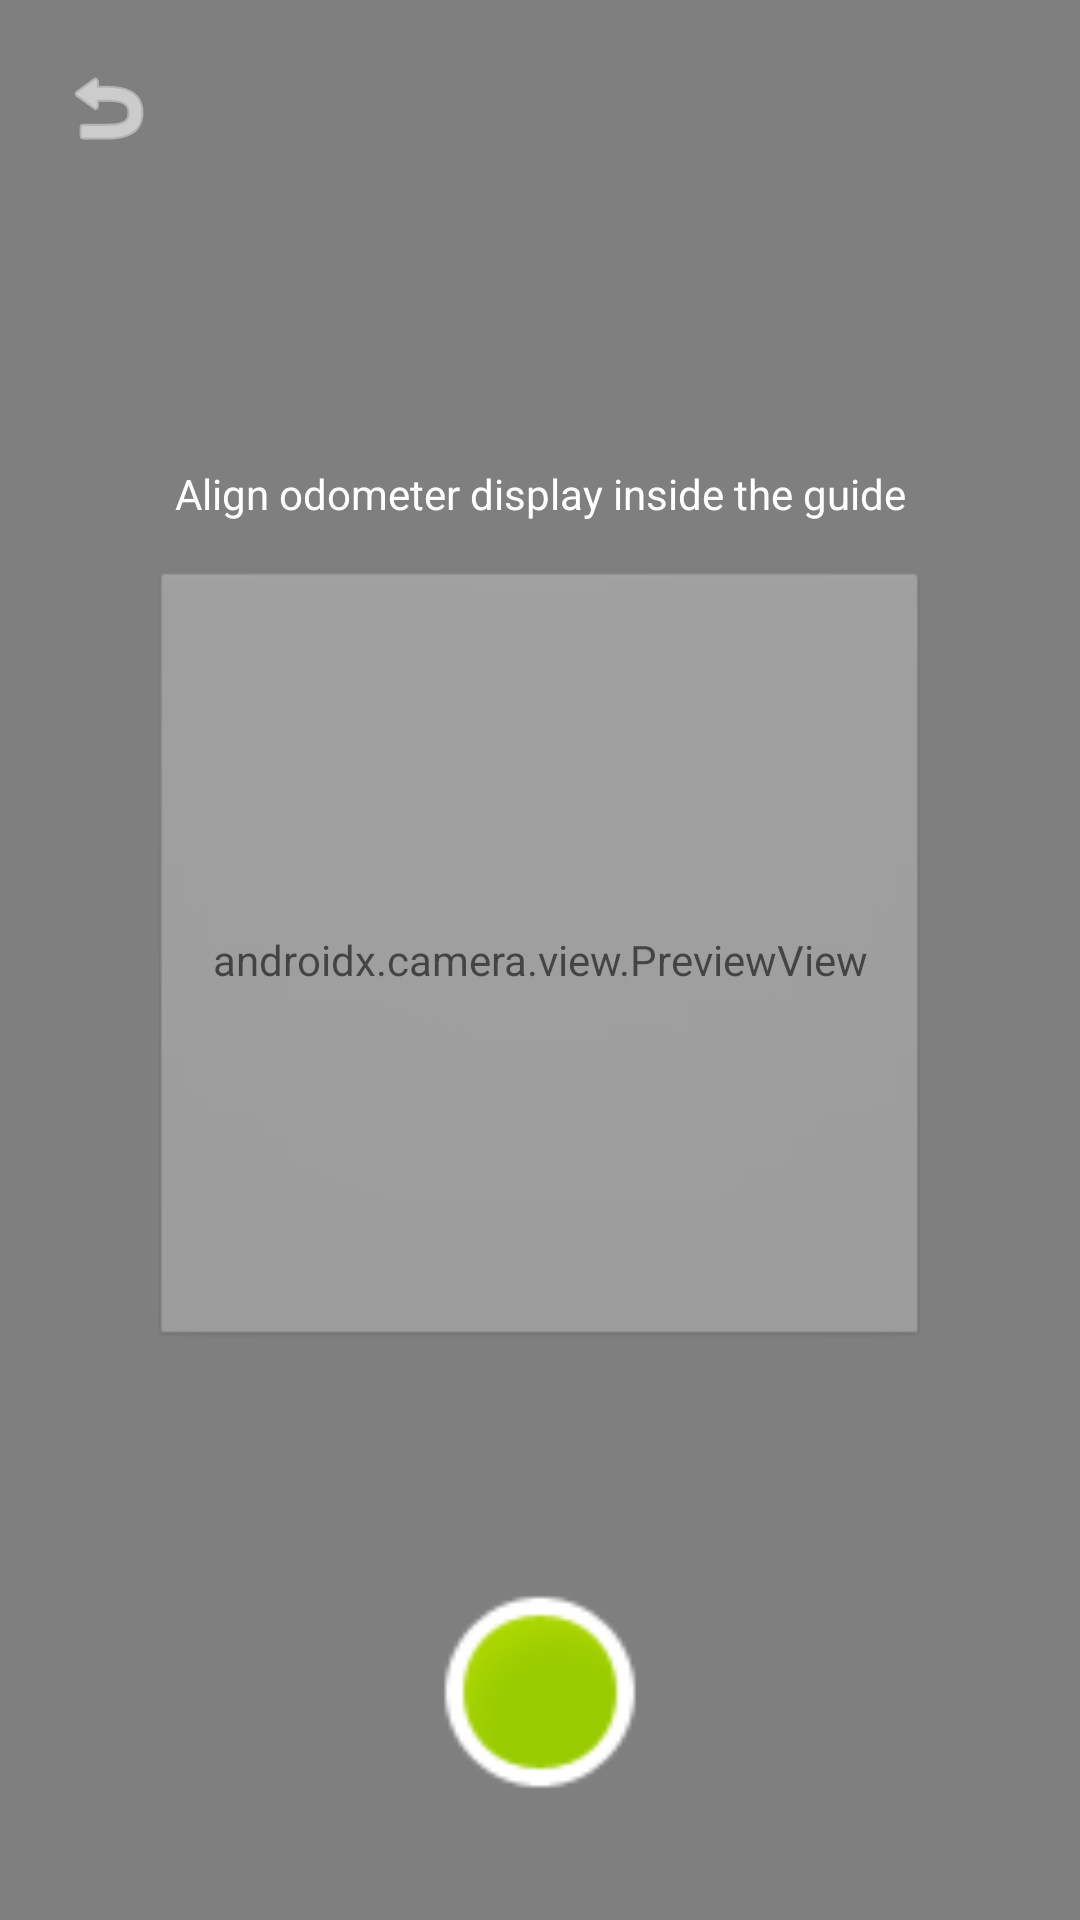

Icons on this 1080 × 1920 Android screen, each with its box as (left=x1, top=y1, right=x2, bottom=y2):
Back: (left=75, top=78, right=144, bottom=140)
Capture: (left=444, top=1596, right=636, bottom=1788)
